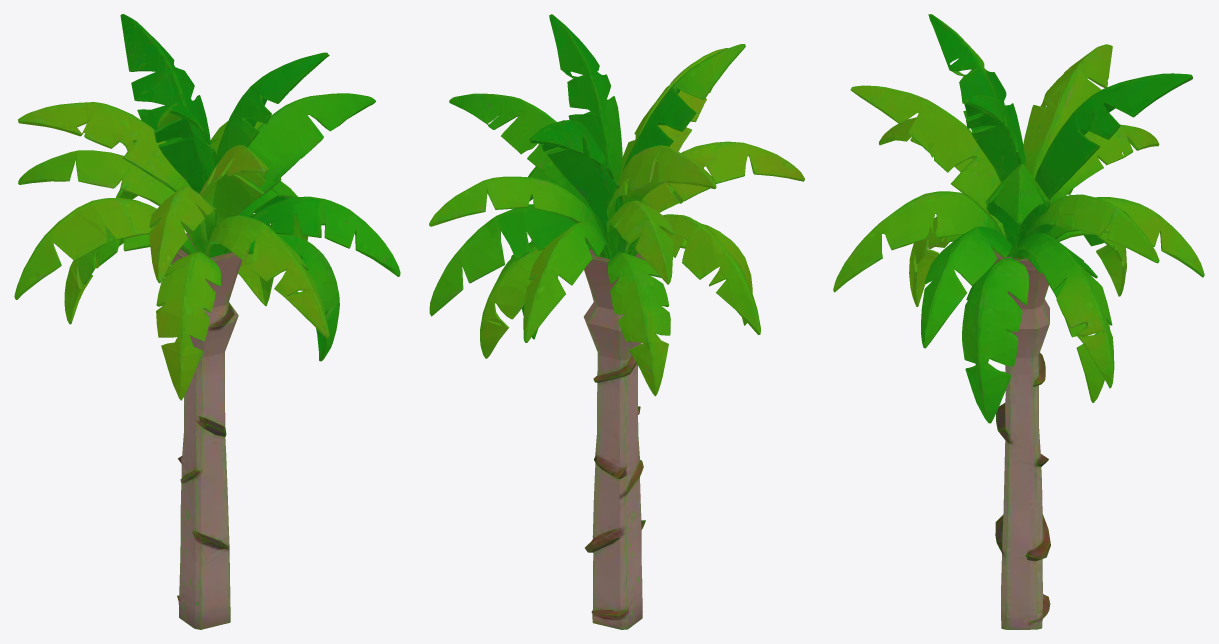
File: palm-tall.glb
3 views of the same model, side by side, from view 1: azimuth 30°, elevation 25°; view 2: azimuth 150°, elevation 25°; view 3: azimuth 270°, elevation 25° (orthographic).
Visible parts, largest first — view 1: geometry_0; view 2: geometry_0; view 3: geometry_0.
Boxes of the visible parts, x1=… form: geometry_0: x1=14, y1=14, x2=400, y2=629; geometry_0: x1=429, y1=14, x2=804, y2=629; geometry_0: x1=833, y1=14, x2=1204, y2=629.
Size of the model in its own units: 0.6246 by 1 by 0.5934.
1 material, 1 textured.
